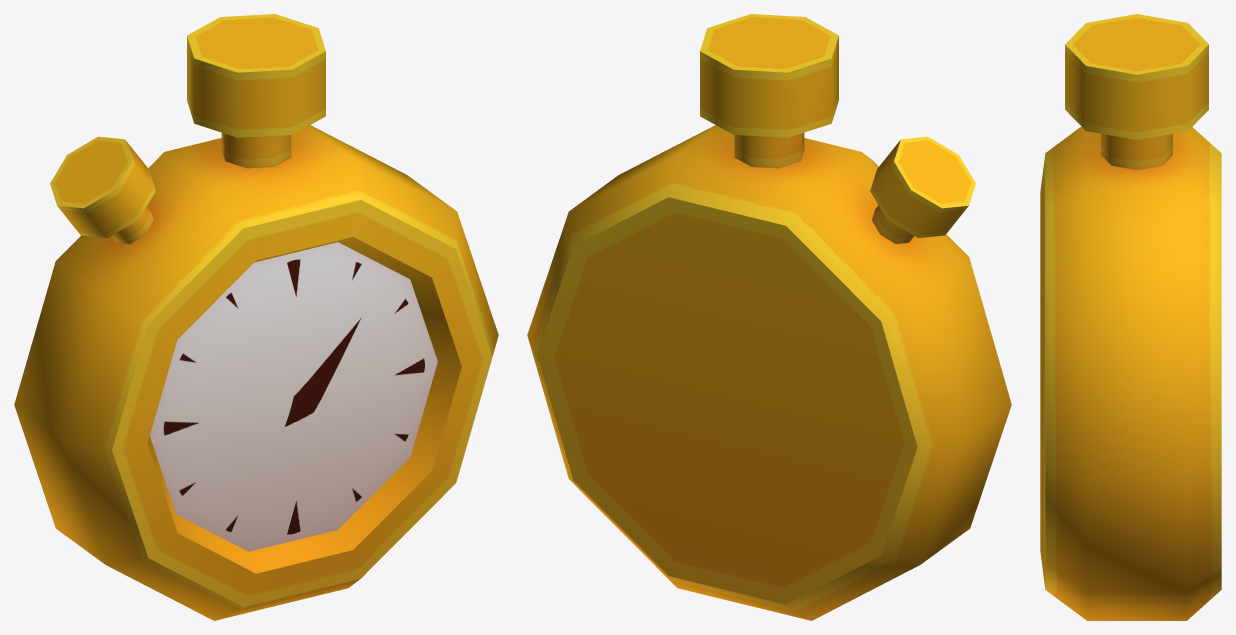
Rendered from Stopwatch.FBX.
3 views of the same model, side by side, from view 1: azimuth 30°, elevation 25°; view 2: azimuth 150°, elevation 25°; view 3: azimuth 270°, elevation 25° (orthographic).
Visible parts, largest first — view 1: Stopwatch; view 2: Stopwatch; view 3: Stopwatch.
Boxes of the visible parts, left/top/right/bottom form: Stopwatch: left=14, top=14, right=498, bottom=620; Stopwatch: left=527, top=14, right=1011, bottom=620; Stopwatch: left=1040, top=14, right=1221, bottom=620.
Size of the model in its own units: 83.79 by 100 by 30.18.
